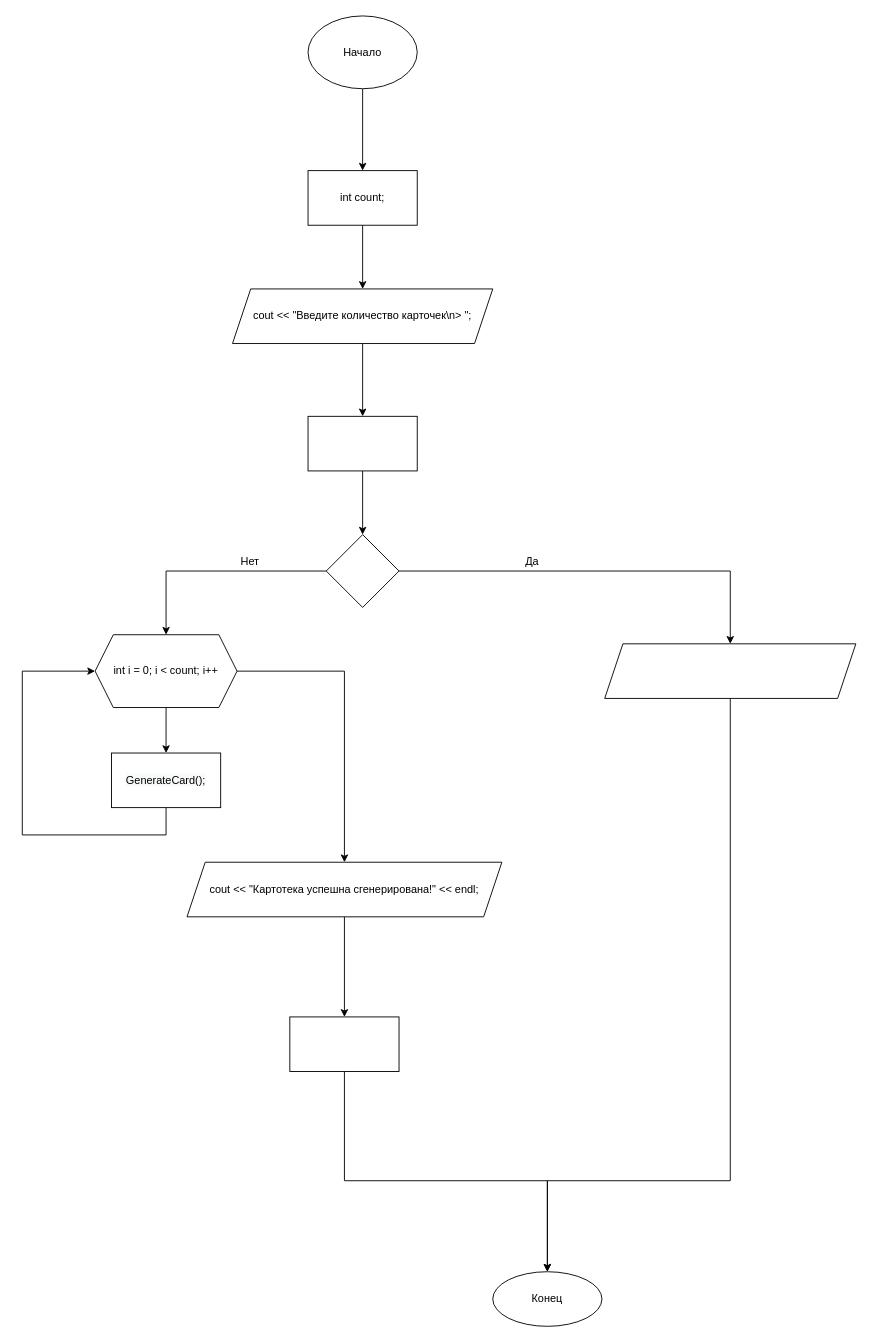
The diagram is 872 pixels wide and 1342 high, and some of its shapes have lost their labels. The shapes that lost their labels are listed below. From the top down, each one's centre as x and y in pixels, then its label:
point (362, 443): cin >> count;
point (362, 570): count <= 0
point (730, 670): cout << "Введите положительное число";
point (344, 1044): UpdateFile();
